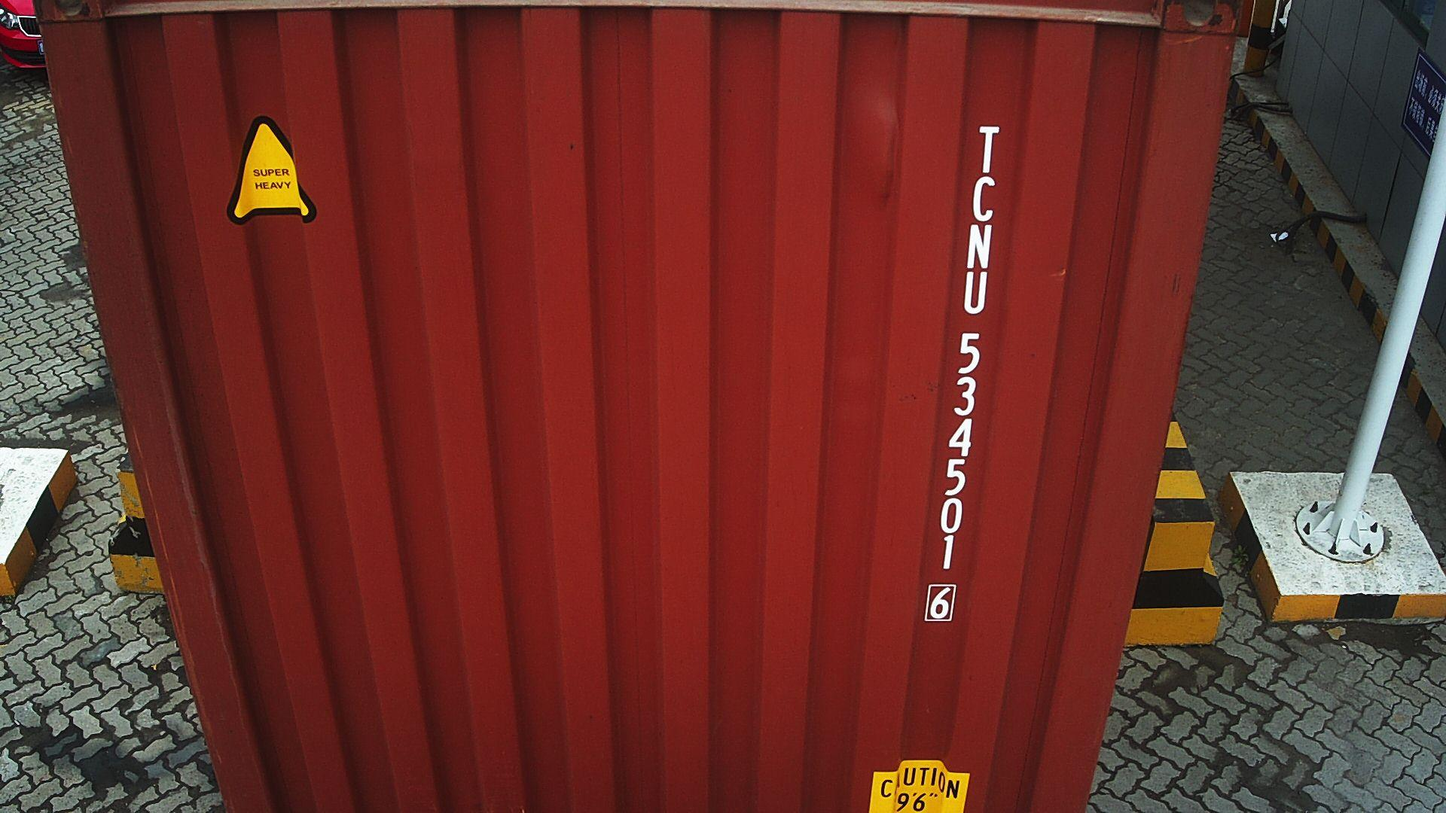container-numbers: (919, 117, 1002, 626)
